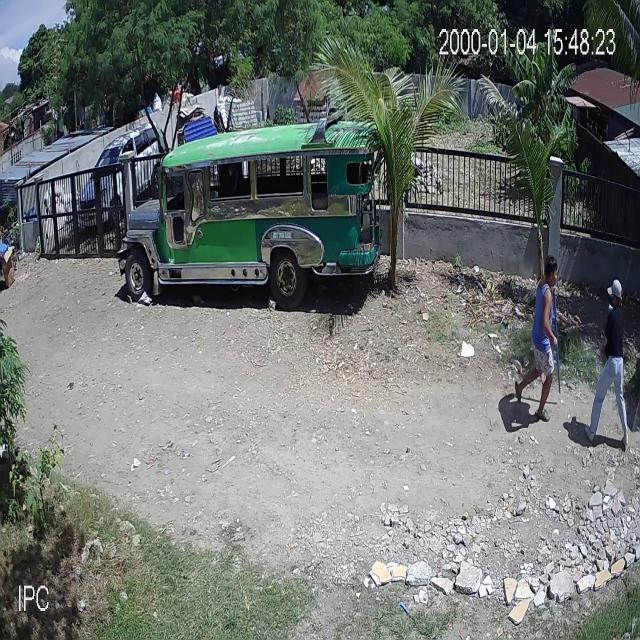running: (514, 255, 562, 422), (585, 276, 627, 439)
